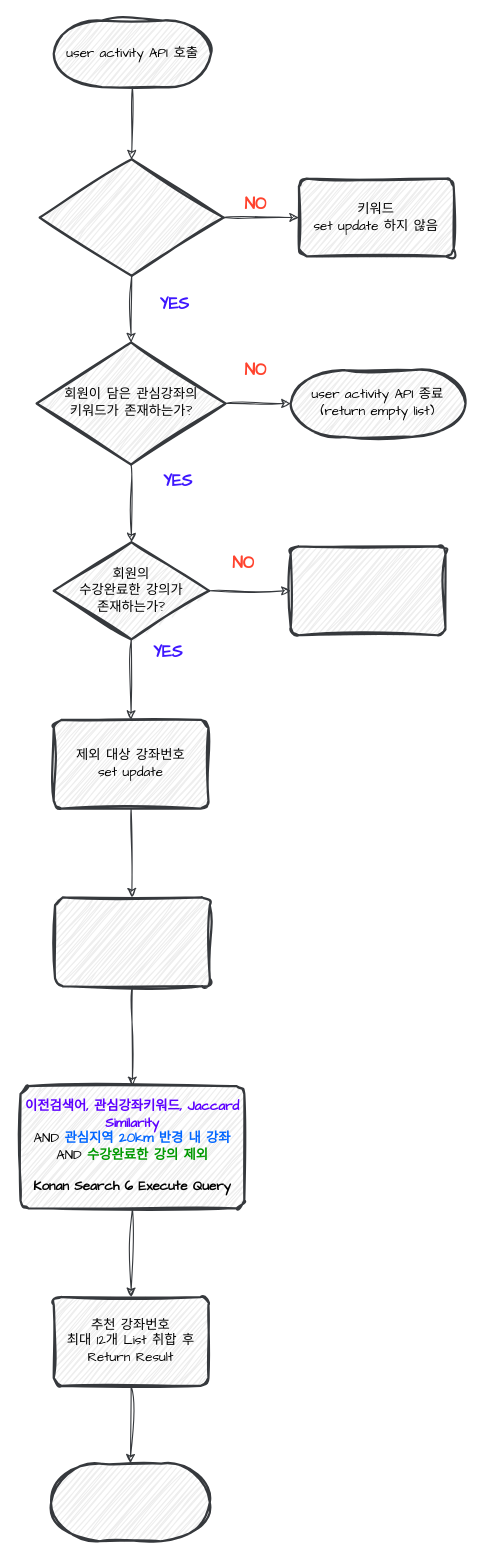
The diagram is 485 pixels wide and 1561 high, and some of its shapes have lost their labels. The centre of each missing label's shape, as x and y in pixels:
"user activity API 종료" belongs at [130,1502].
"관심지역위도, 관심지역경도 값 추출" belongs at [131,941].
"제외 대상 강좌번호 set update 하지 않음" belongs at [367,590].
"회원의 이전 검색어가 존재 하는가?" belongs at [131,217].
